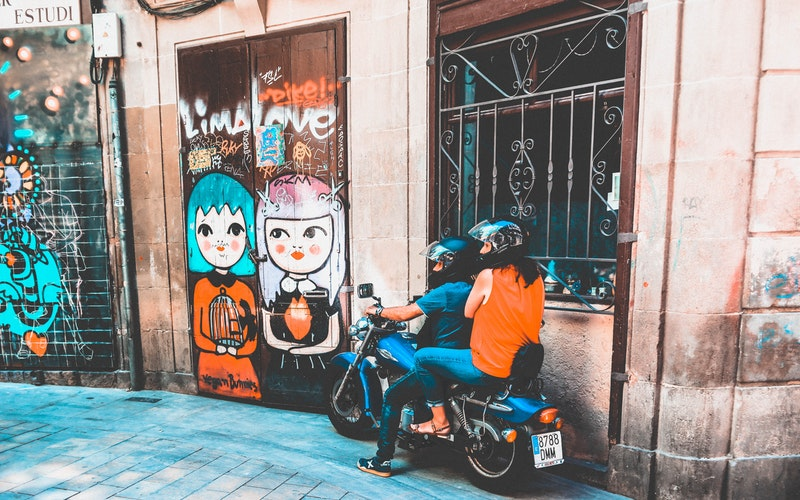helmet: (464, 218, 532, 268), (420, 233, 474, 284)
